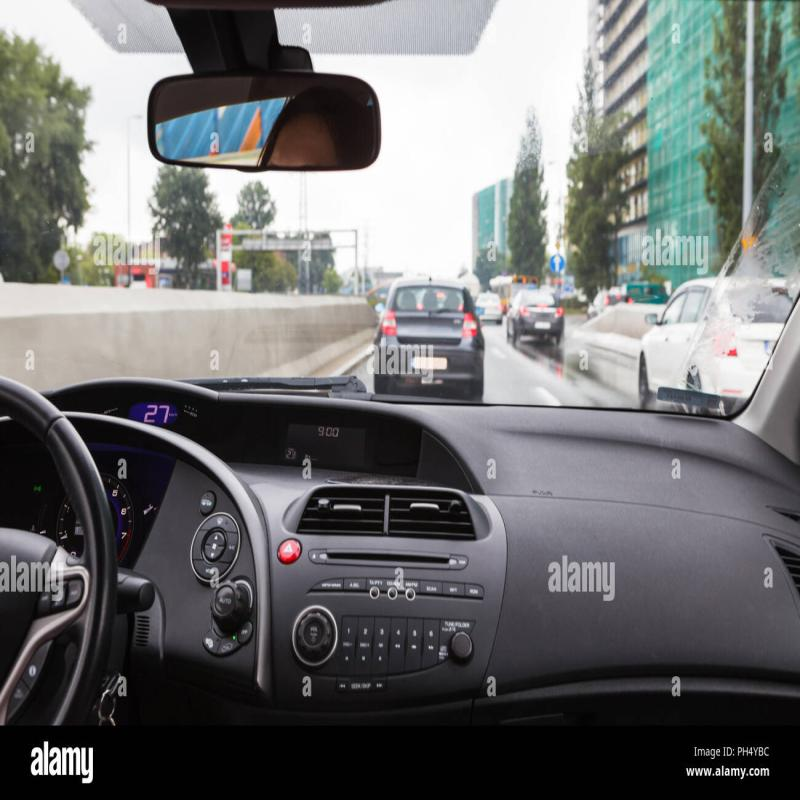car: (360, 271, 470, 411)
